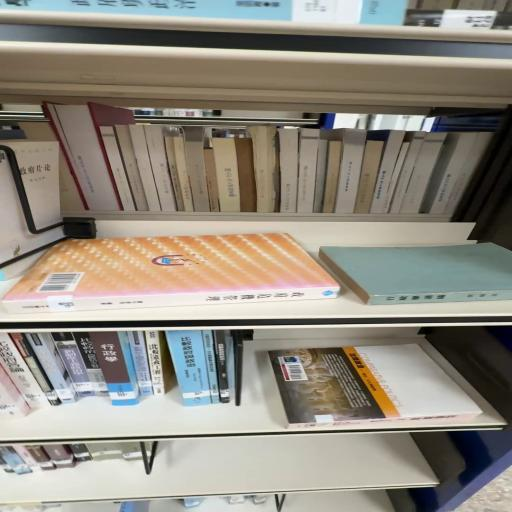flat: (2, 234, 341, 314), (269, 345, 482, 429), (321, 244, 512, 306)
